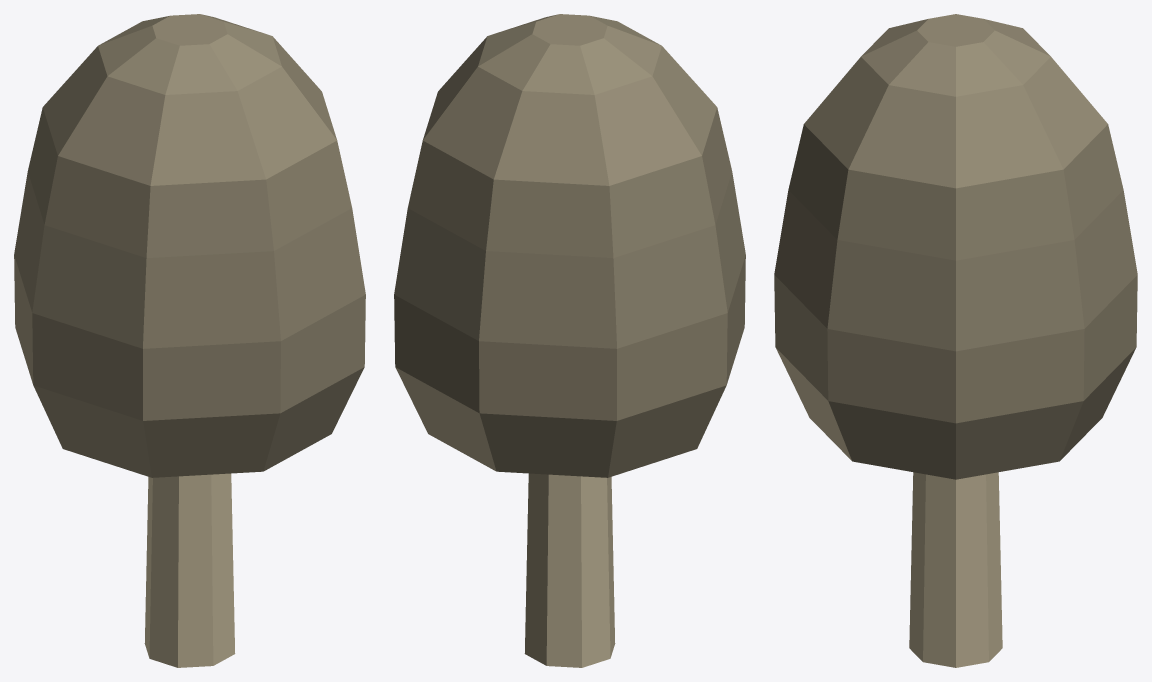
File: Agaricus_Atramentarius_little.fbx
3 renders of one model, left to right at view 1: azimuth 30°, elevation 25°; view 2: azimuth 150°, elevation 25°; view 3: azimuth 270°, elevation 25°, orthographic.
Visible parts, largest first — view 1: Cylinder.004; view 2: Cylinder.004; view 3: Cylinder.004.
Part boxes in pixels (<box>): Cylinder.004: <box>14,14,365,667</box>; Cylinder.004: <box>394,14,745,667</box>; Cylinder.004: <box>774,14,1137,667</box>.
Bounding box in the file's own units: 46.8 × 87.77 × 46.8.
